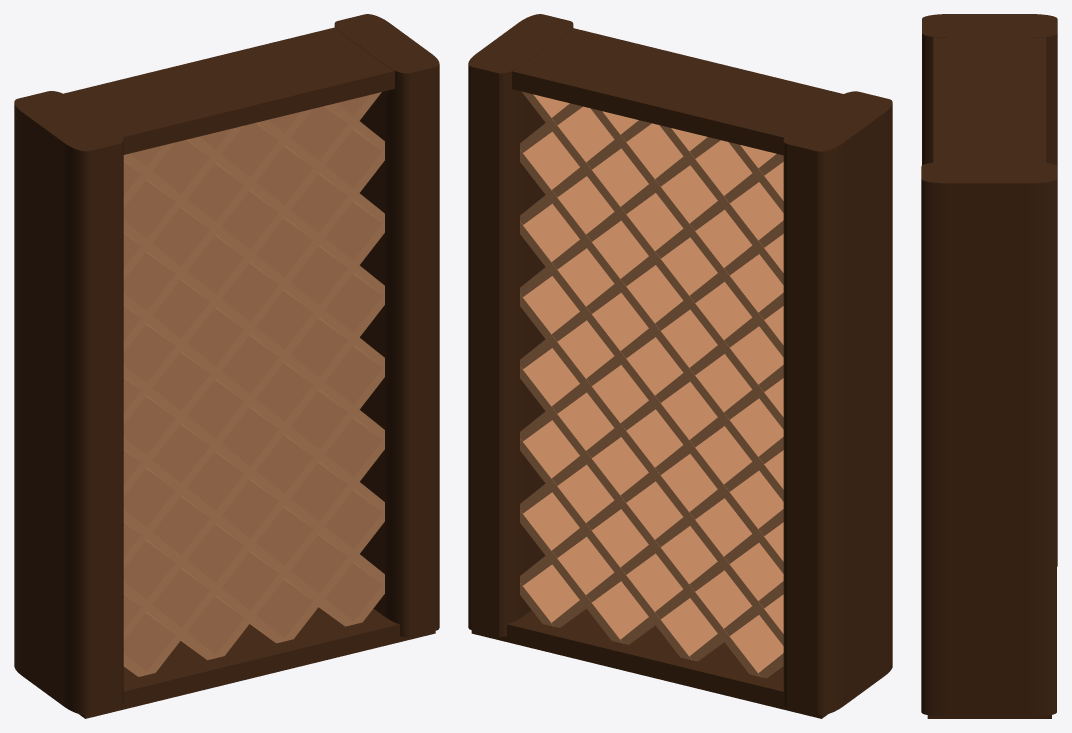
Rendered from Wine_case.fbx.
3 renders of one model, left to right at view 1: azimuth 30°, elevation 25°; view 2: azimuth 150°, elevation 25°; view 3: azimuth 270°, elevation 25°, orthographic. The views are drawn at different scales.
Visible parts, largest first — view 1: block (×51), cylinderSquare (×2); view 2: block (×62), cylinderSquare (×2); view 3: cylinderSquare (×2), block (×2).
Boxes of the visible parts, x1=… form: block (×51): x1=64, y1=27, x2=435, y2=718; cylinderSquare (×2): x1=14, y1=14, x2=439, y2=715; block (×62): x1=471, y1=28, x2=843, y2=718; cylinderSquare (×2): x1=468, y1=14, x2=892, y2=715; cylinderSquare (×2): x1=921, y1=14, x2=1057, y2=716; block (×2): x1=927, y1=37, x2=1051, y2=718.
Size of the model in its own units: 71 by 105 by 24.1.
